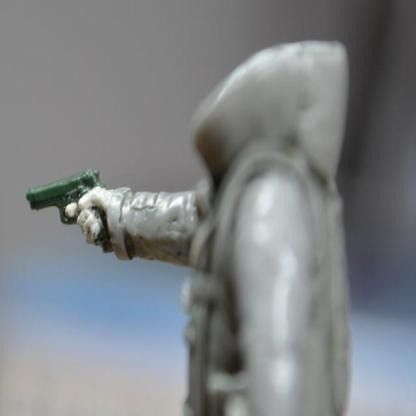weapon: (25, 167, 113, 246)
